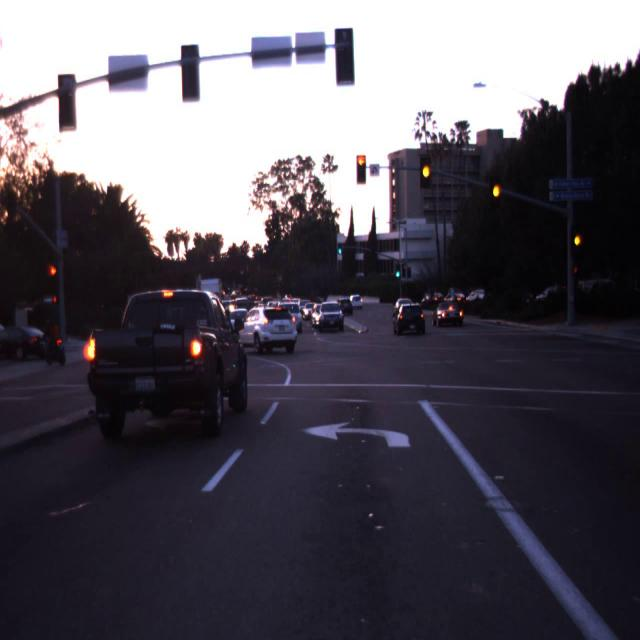go: (397, 272, 399, 277), (339, 250, 341, 253)
go traffic light: (395, 255, 401, 279), (337, 238, 343, 255)
stop left: (357, 155, 365, 165), (51, 267, 56, 275)
stop left traffic light: (349, 150, 373, 192), (46, 263, 61, 296)
warning: (423, 166, 429, 176), (493, 187, 499, 196), (575, 237, 579, 245)
warning traffic light: (417, 147, 435, 191), (488, 168, 504, 210), (571, 223, 583, 255)
